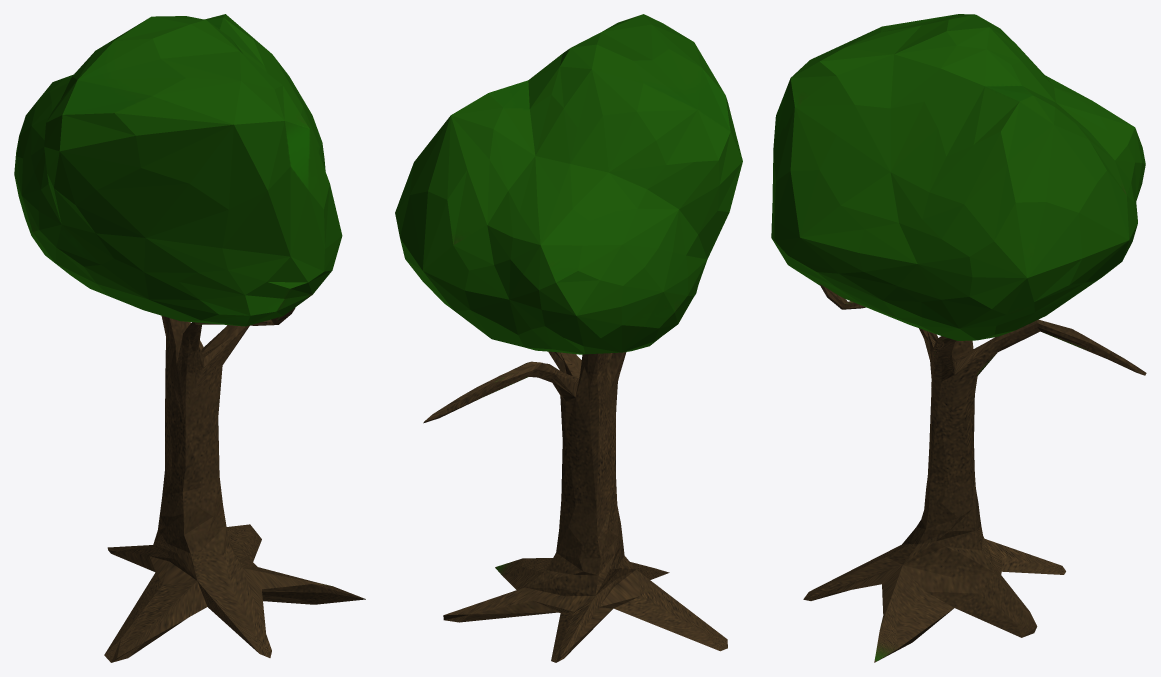
Rendered from tree_1.obj.
3 views of the same model, side by side, from view 1: azimuth 30°, elevation 25°; view 2: azimuth 150°, elevation 25°; view 3: azimuth 270°, elevation 25° (orthographic). The views are drawn at different scales.
Visible parts, largest first — view 1: Cube_Cube.003; view 2: Cube_Cube.003; view 3: Cube_Cube.003.
Part boxes in pixels (x1,y1,x2,y2): Cube_Cube.003: (14, 14, 365, 662); Cube_Cube.003: (395, 14, 742, 662); Cube_Cube.003: (771, 14, 1146, 662).
Bounding box in the file's own units: 14.41 × 27.48 × 16.17.
Materials: 1 (1 with a texture image).
